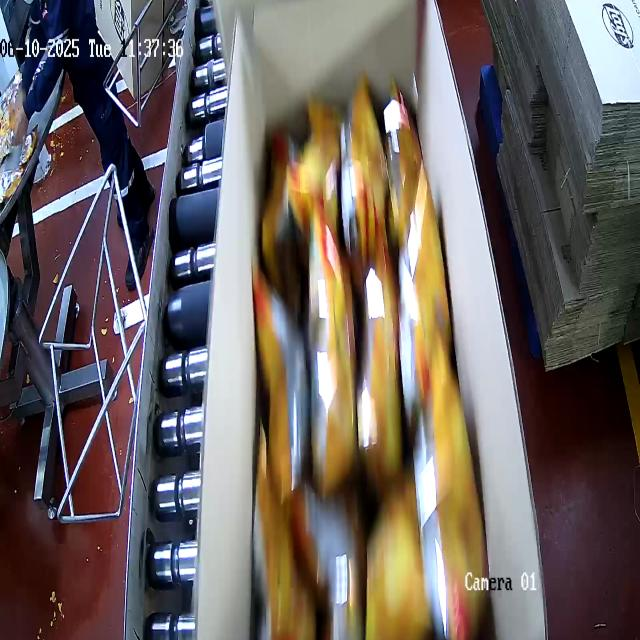FRENCH_CHEESE: (256, 93, 476, 640)
